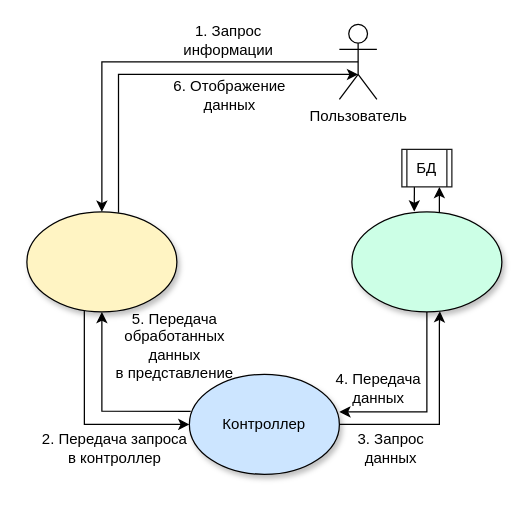
The diagram is 531 pixels wide and 505 high, and some of its shapes have lost their labels. The shapes that lost their labels are listed below. From the top down, each one's centre as x and y in pixels, then its label:
At pixel 102 263: "Представление".
At pixel 427 263: "Модель".
